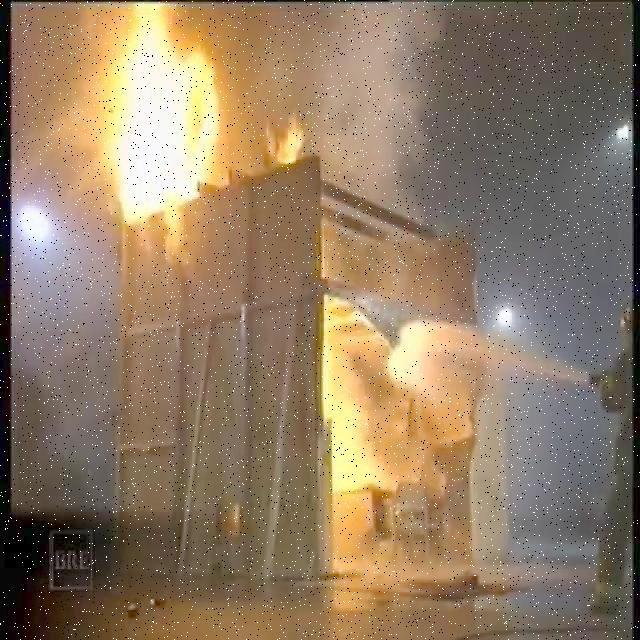fire: (334, 293, 492, 549), (92, 8, 226, 239)
